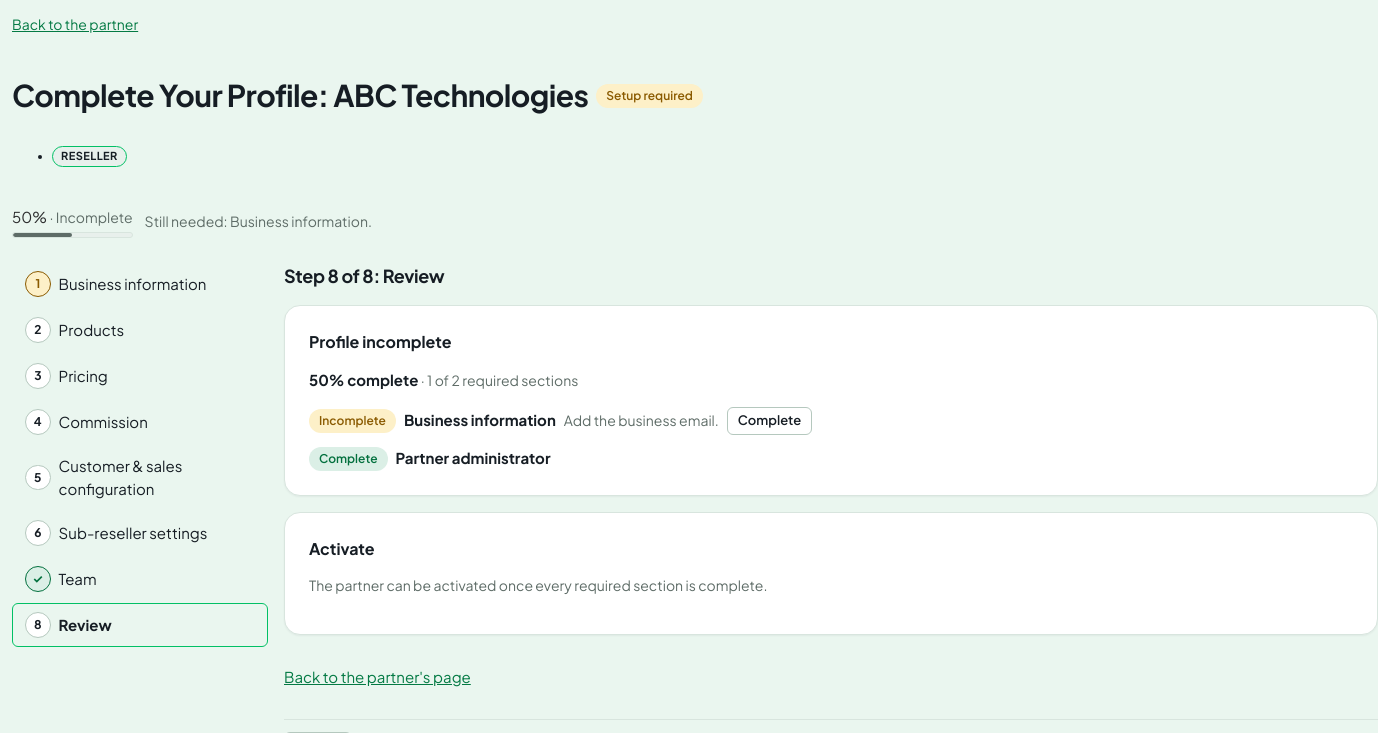
Test: the review step › moves to the step that finishes a missing section, inside the wizard
Note: jsdom drops the space before the visually hidden part of the name.
Step 1. Click the button "Complete" → x=770, y=420, box [727,406,812,434]
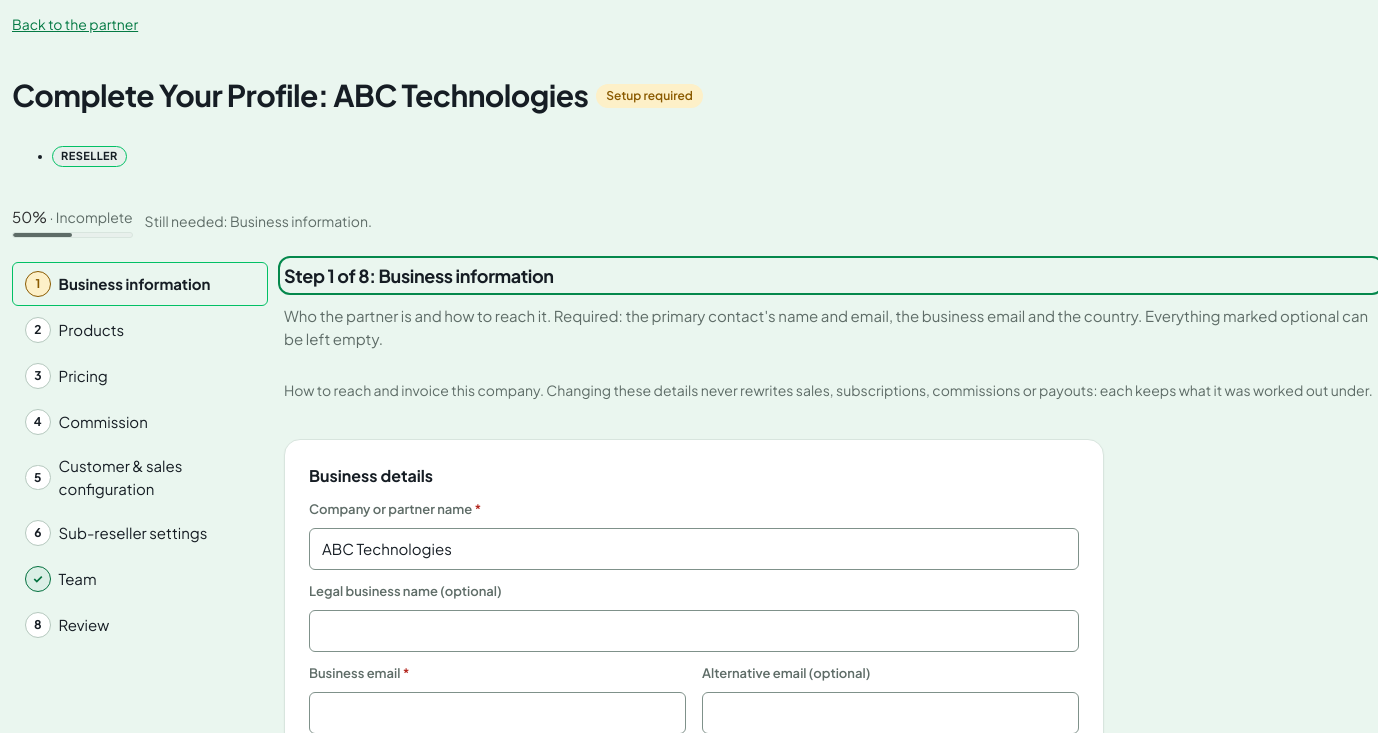
Result: the heading "Step 1 of 8: Business information" is shown at [284,264,554,287]
